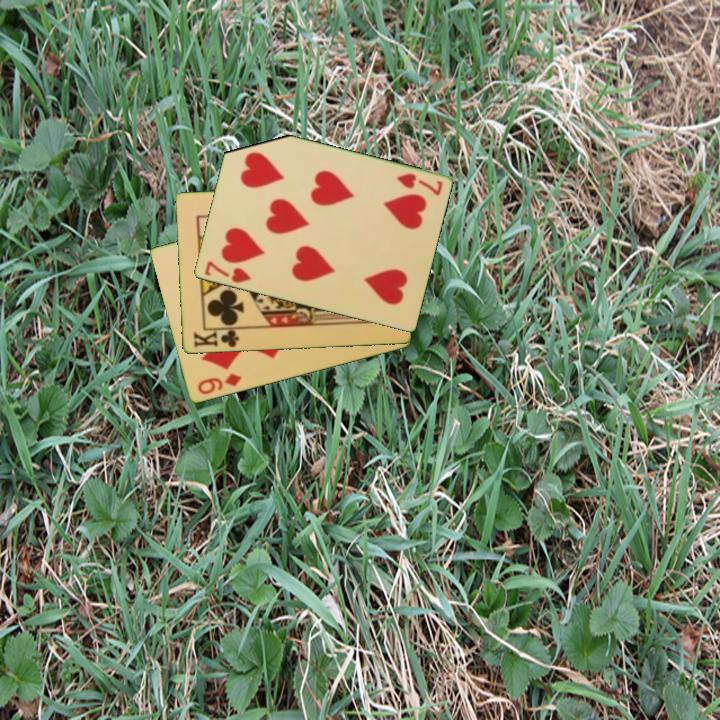7h: (393, 170, 445, 199), (201, 258, 254, 286)
9d: (194, 370, 245, 398)
Kc: (190, 325, 244, 351)
